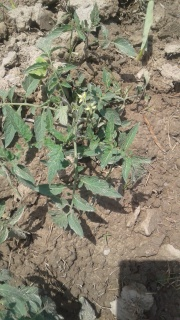tomato flower: (73, 90, 106, 119), (80, 101, 101, 118), (77, 90, 91, 102)
tomato plant: (11, 37, 93, 225)
